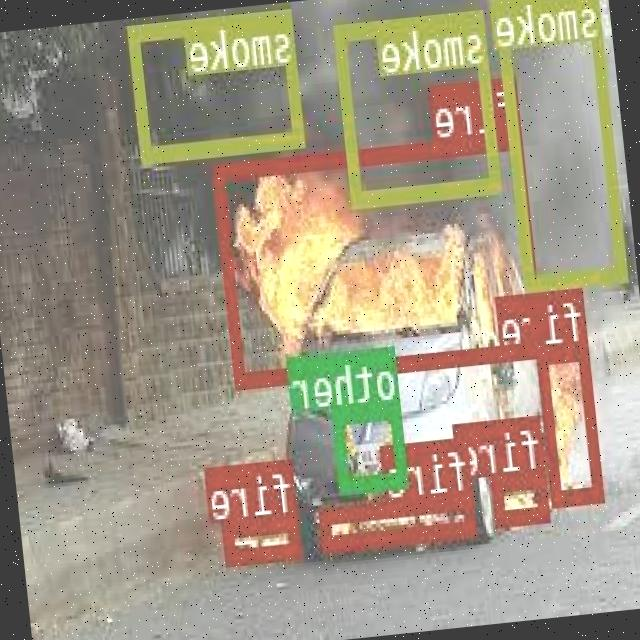fire: (214, 128, 545, 384), (538, 343, 605, 504), (320, 491, 480, 548), (224, 514, 302, 562), (492, 468, 550, 524)
smoke: (495, 0, 628, 286), (336, 6, 502, 202), (130, 8, 307, 160)
